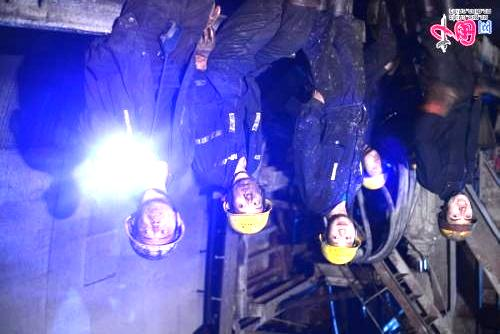helmet: (124, 200, 185, 260), (222, 178, 273, 234), (319, 216, 362, 266), (437, 192, 479, 242), (361, 150, 388, 191)
